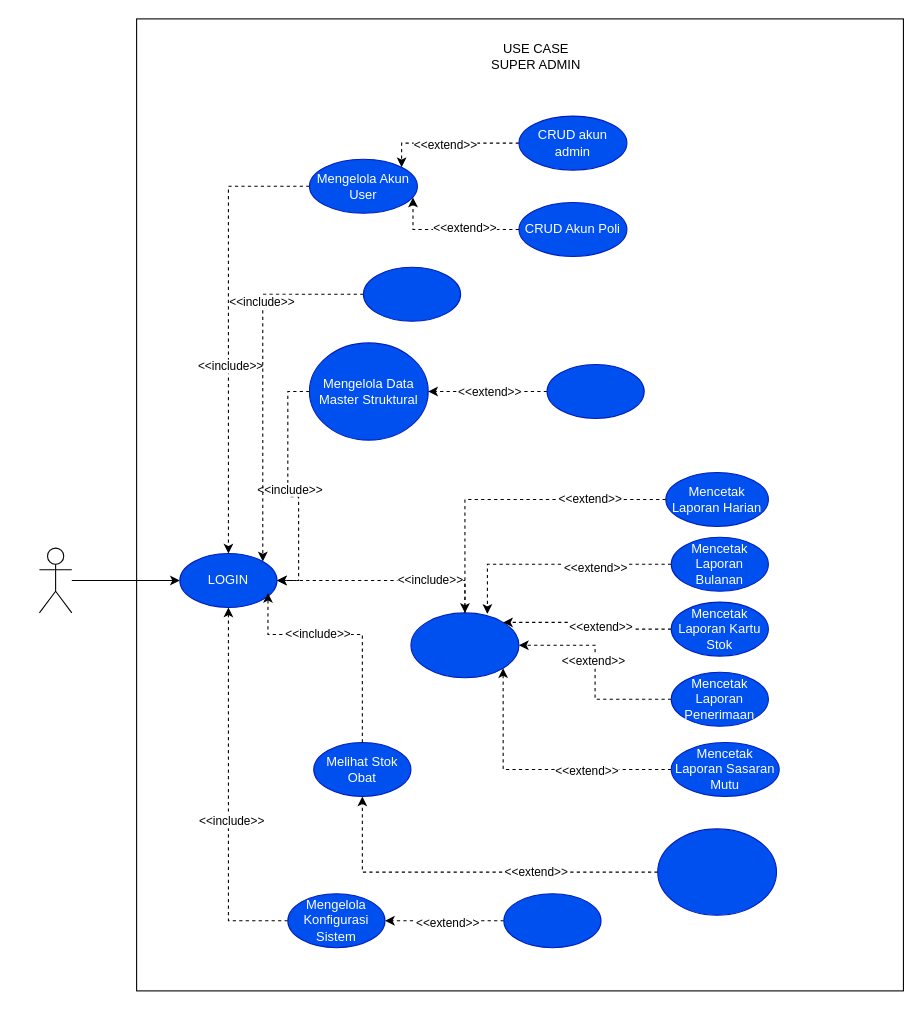
This 922x1010 diagram has some shape labels left out. The shapes that lost their labels are listed below. From the top down, each one's centre as x and y in pixels, then its label:
At point (411, 293): "Melihat Dashboard Grafik".
At point (595, 390): "CRUD Poli".
At point (55, 580): "Super admin".
At point (464, 645): "Mencetak Laporan Tabular".
At point (717, 871): "Mencari Obat Berdasarkan Nama/Kategori".
At point (552, 920): "SET Batas Minimum Stok".
